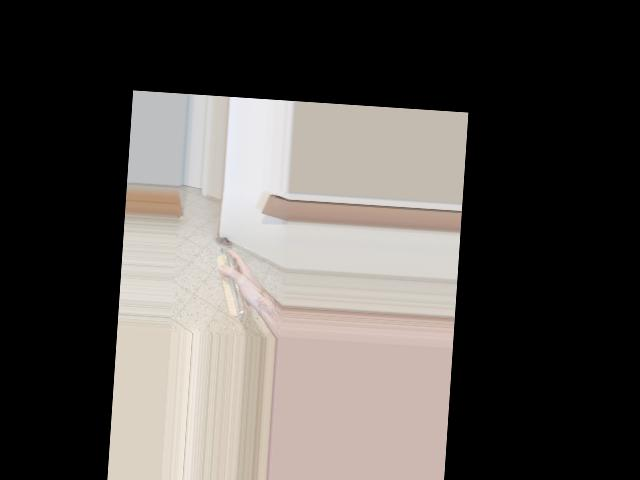cheese: (205, 243, 265, 312)
